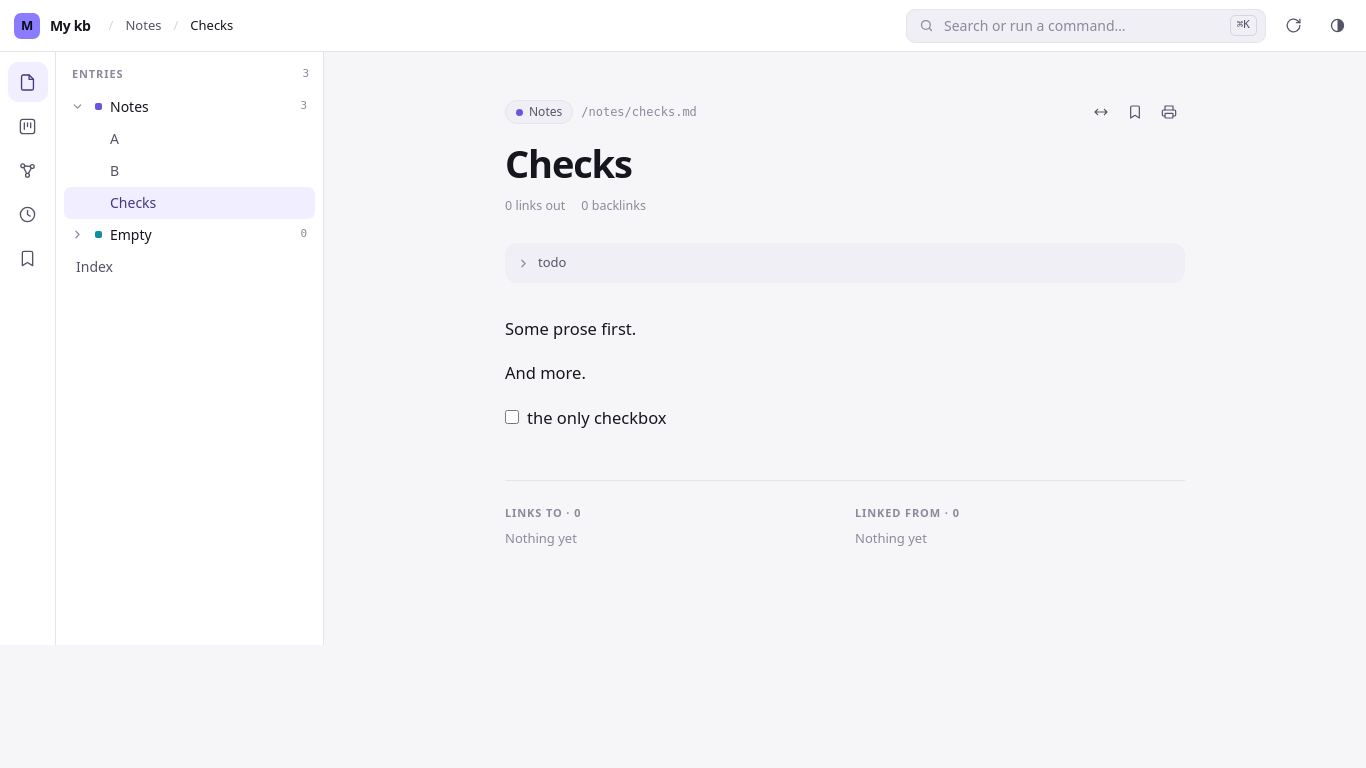
a checkbox ticked survives navigating away and back
Step 1. Click the checkbox named "the only checkbox" → (512, 416), box top-left (505, 410), bottom-right (519, 424)
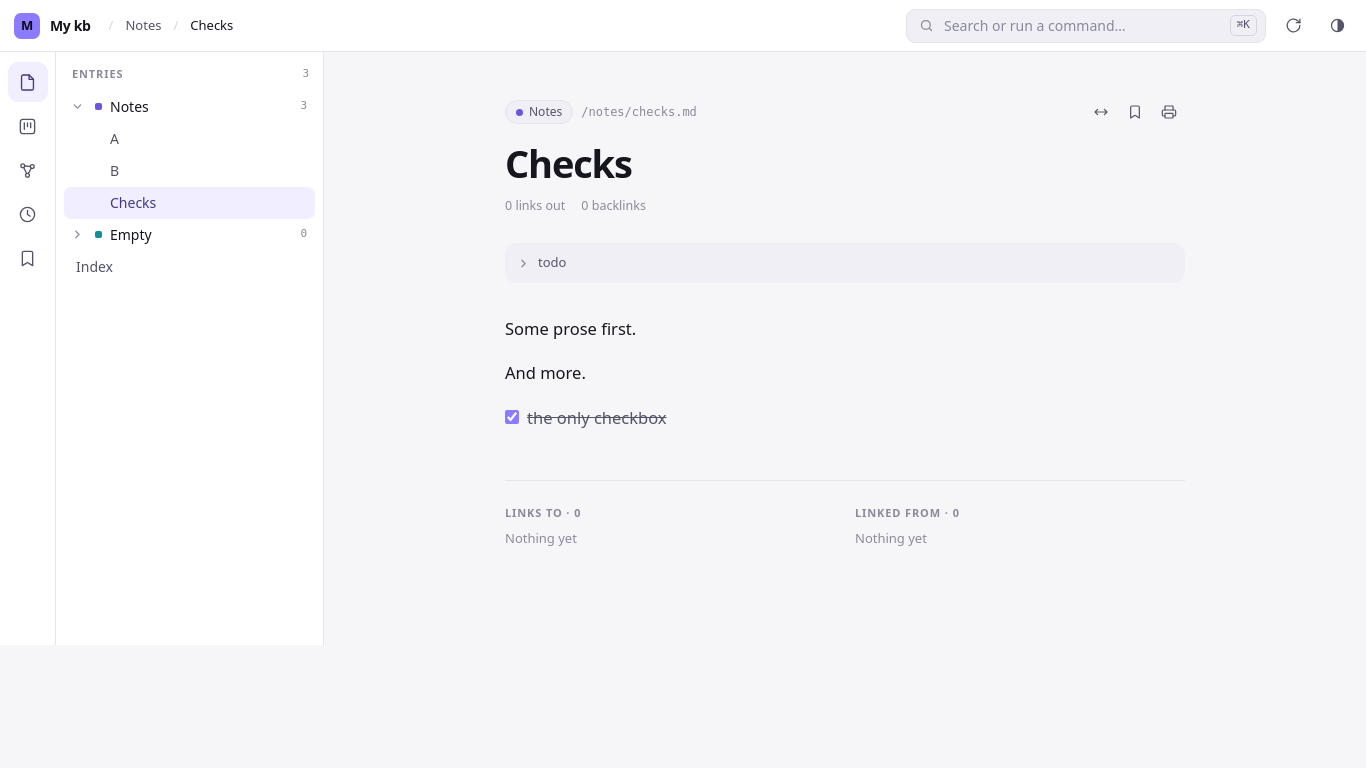
Expected: the checkbox named "the only checkbox" is checked, top-left (505, 410), bottom-right (519, 424)
